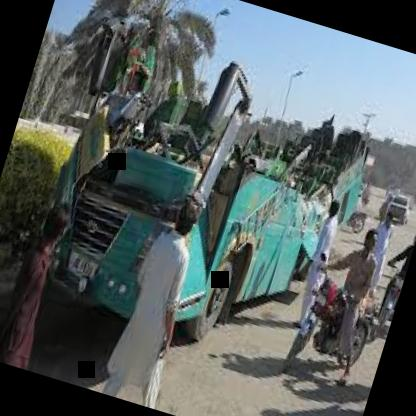accident: (11, 3, 416, 384)
